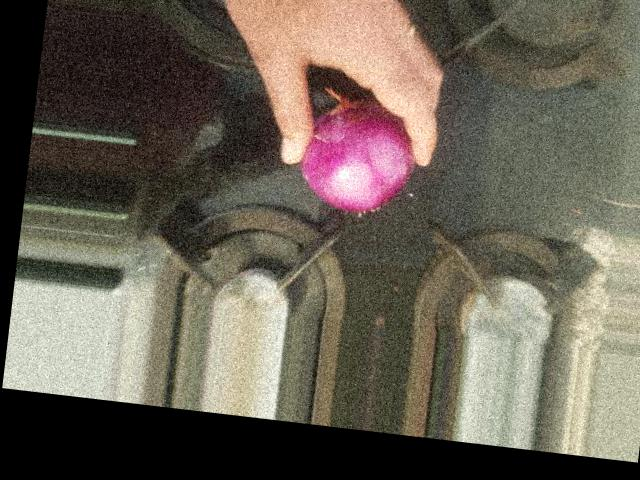onion: (290, 92, 426, 217)
